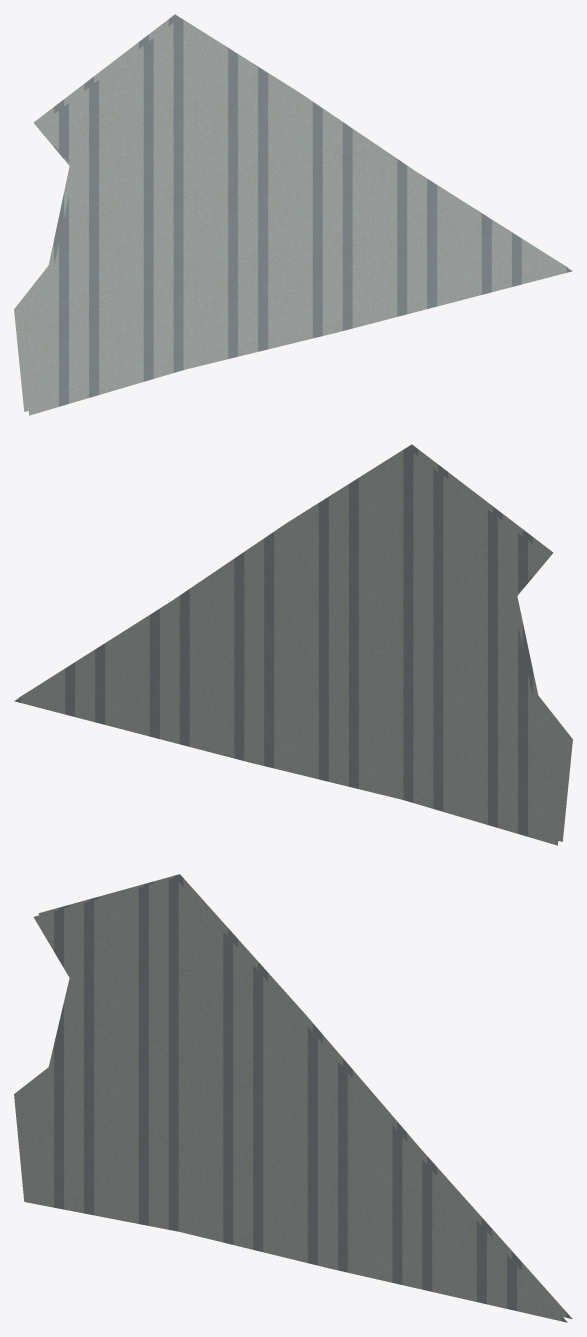
File: floor_62.obj
3 views of the same model, one above another, from view 1: azimuth 30°, elevation 25°; view 2: azimuth 150°, elevation 25°; view 3: azimuth 330°, elevation 25° (orthographic).
Visible parts, largest first — view 1: floor_62; view 2: floor_62; view 3: floor_62.
Boxes of the visible parts, x1,y1,x2,y2 form: floor_62: (14,14,572,415); floor_62: (14,444,572,845); floor_62: (14,874,572,1322).
Size of the model in its own units: 6.55 by 4.08 by 0.1.
1 material, 1 textured.
